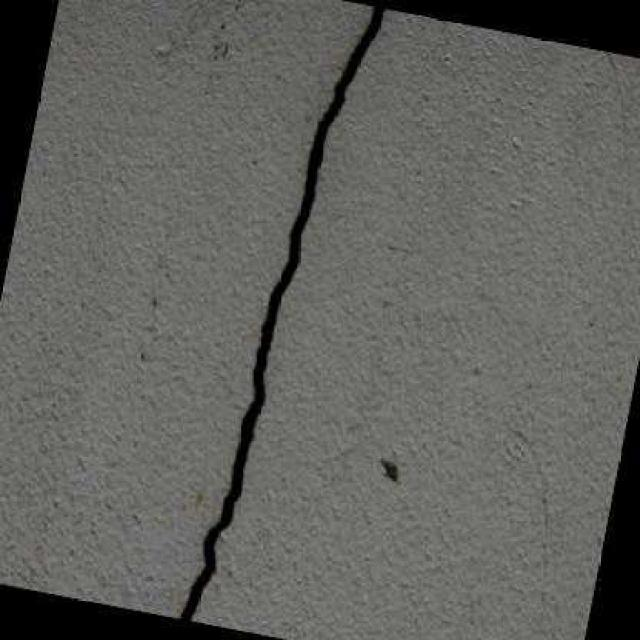D00: (176, 4, 386, 621)
